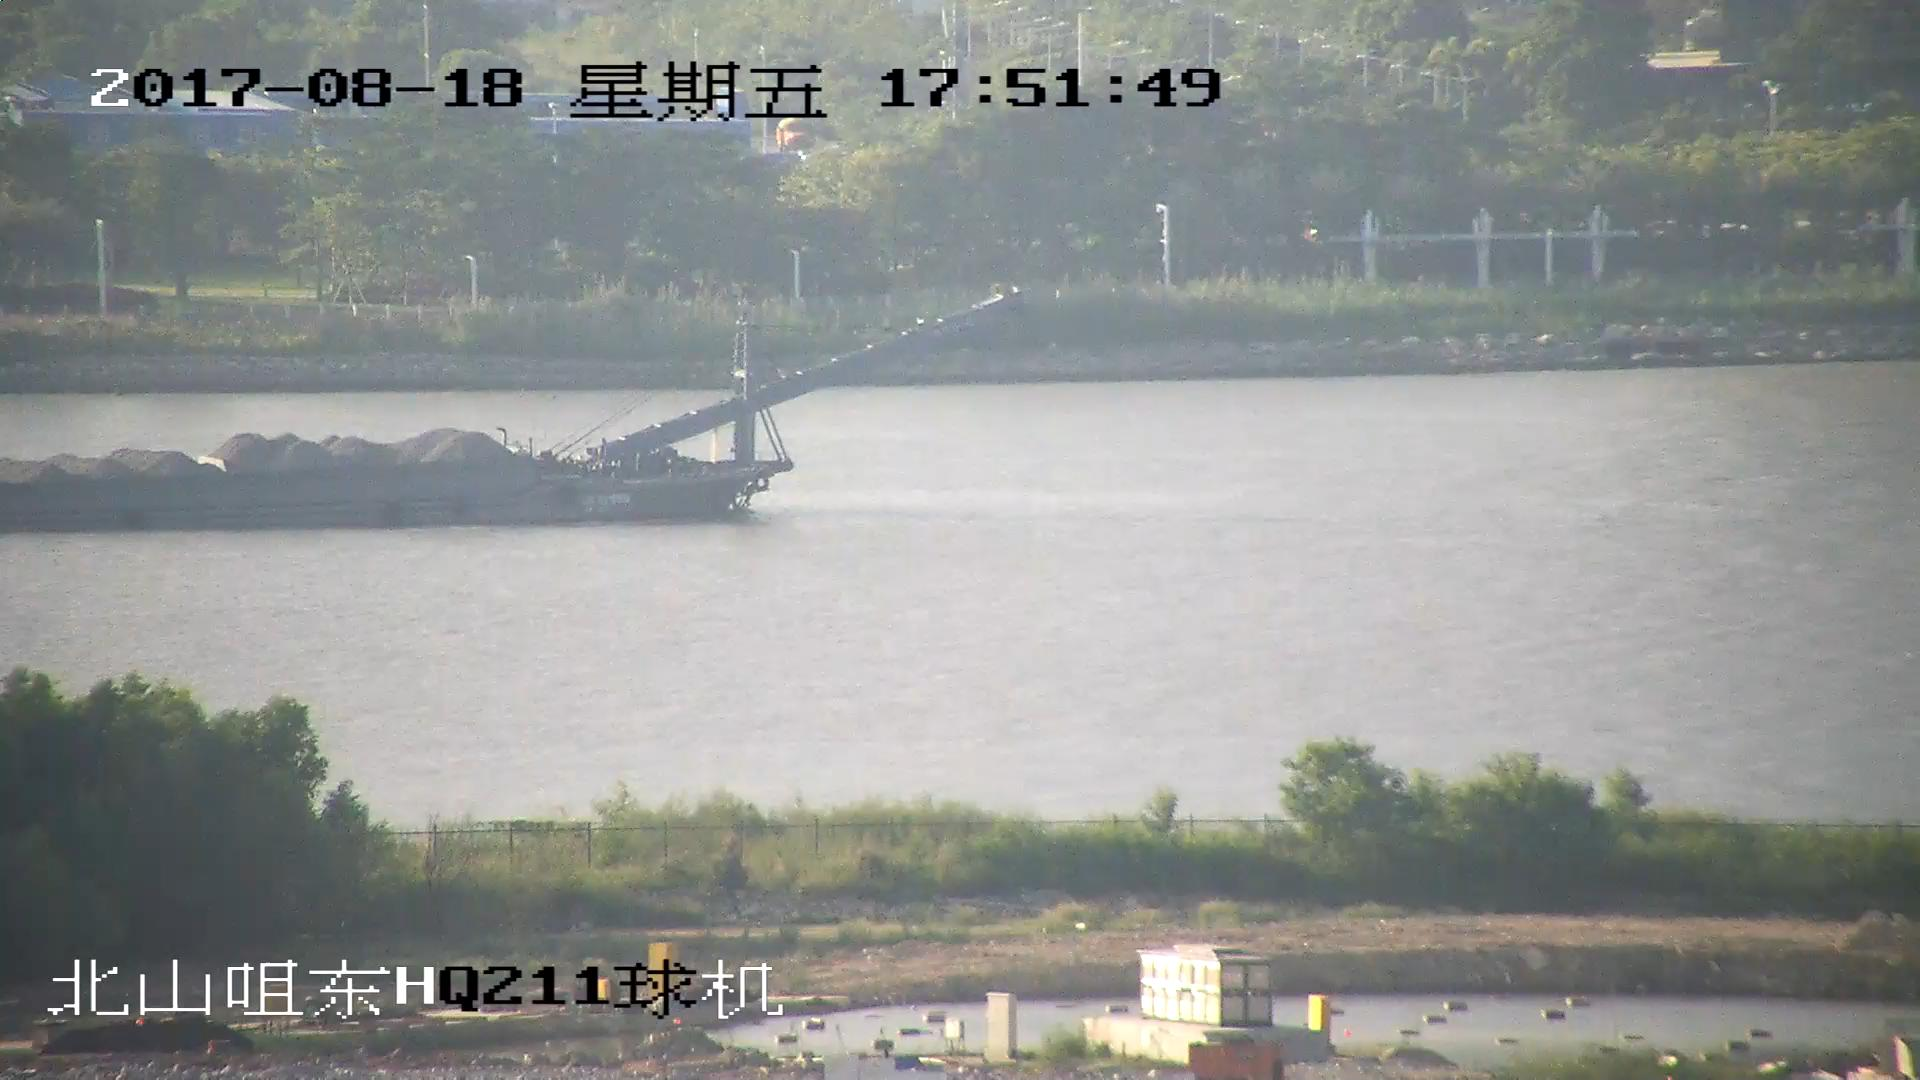ore carrier: (1, 290, 1017, 536)
